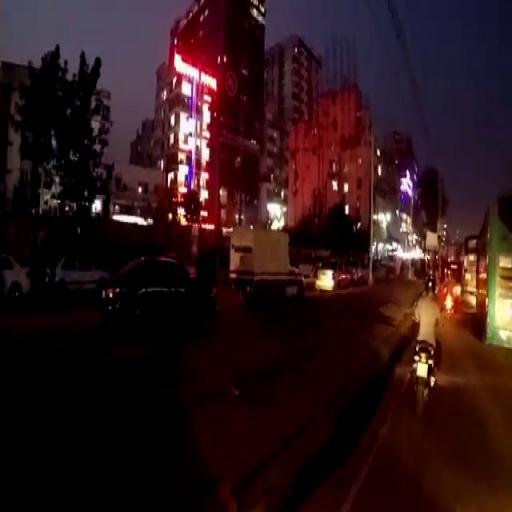bus: (476, 192, 512, 350), (456, 234, 478, 308)
car: (101, 253, 220, 332), (46, 257, 111, 291), (1, 252, 32, 302), (314, 257, 359, 291)
motorbike: (411, 338, 438, 418), (444, 291, 456, 323)
pickup: (230, 224, 305, 301)
